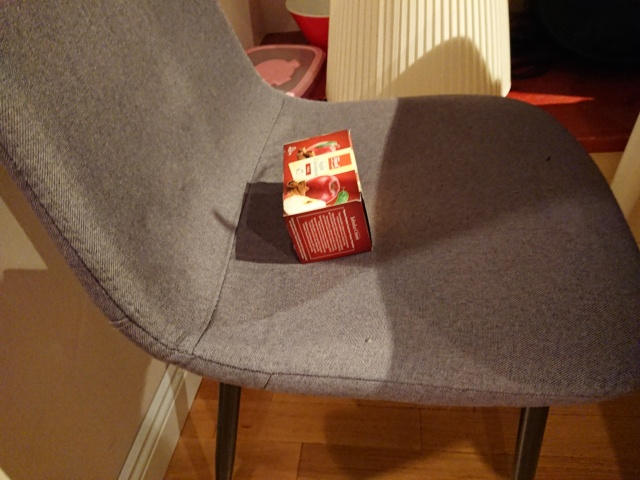Franck Apple Cinnamon Tea 60g: (278, 125, 377, 267)
